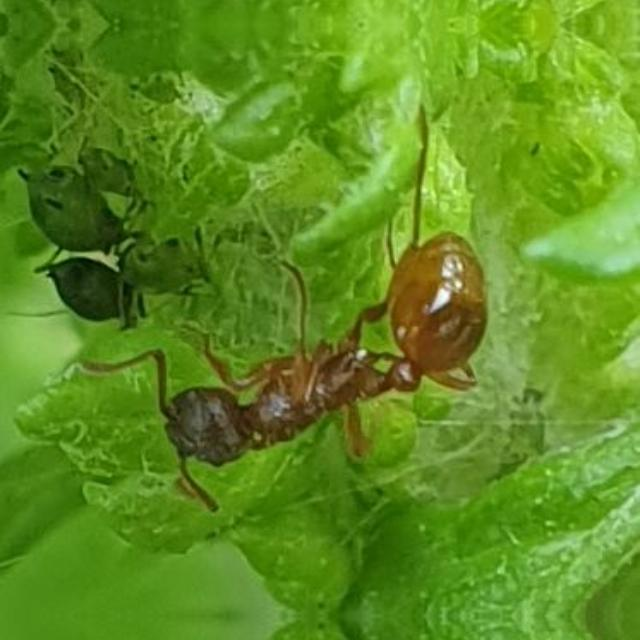Myrmica: (118, 225, 490, 511)
